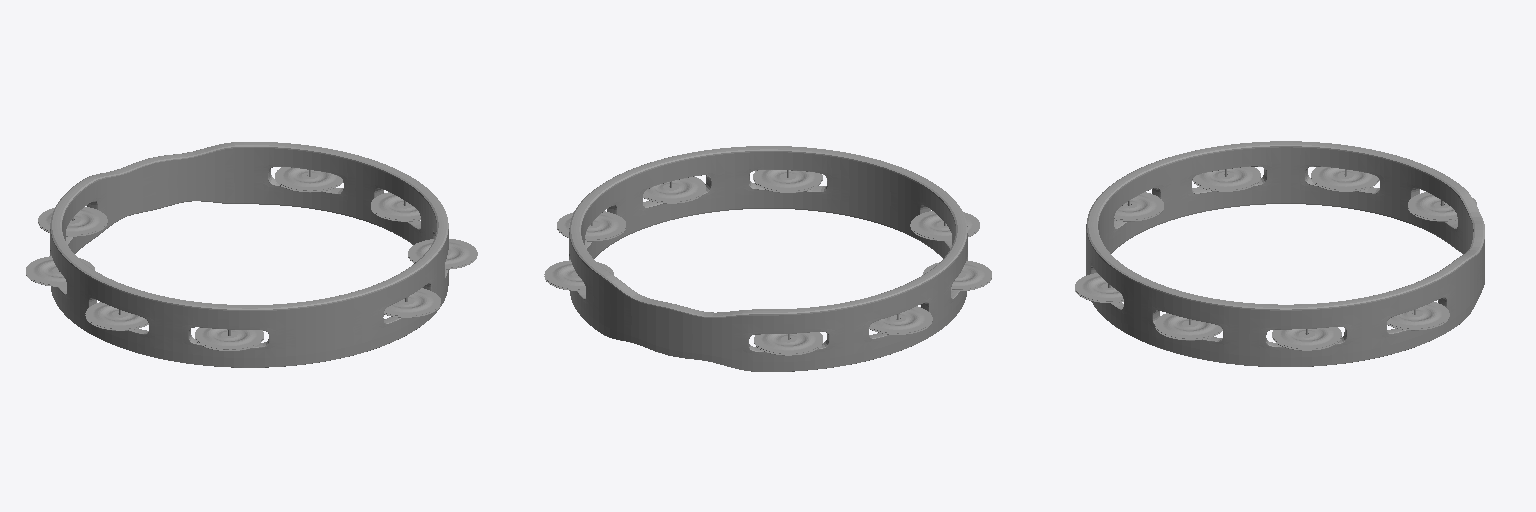
Rendered from tambourine.obj.
The picture shows the model from 3 angles: view 1: azimuth 30°, elevation 25°; view 2: azimuth 150°, elevation 25°; view 3: azimuth 270°, elevation 25°; orthographic projection.
Parts seen in each view (by area): view 1: open_tambourine; view 2: open_tambourine; view 3: open_tambourine.
Part boxes in pixels (left/top/right/bottom): open_tambourine: left=26, top=142, right=477, bottom=367; open_tambourine: left=544, top=146, right=991, bottom=371; open_tambourine: left=1075, top=141, right=1484, bottom=366.
Size of the model in its own units: 23.75 by 3.5 by 21.9.